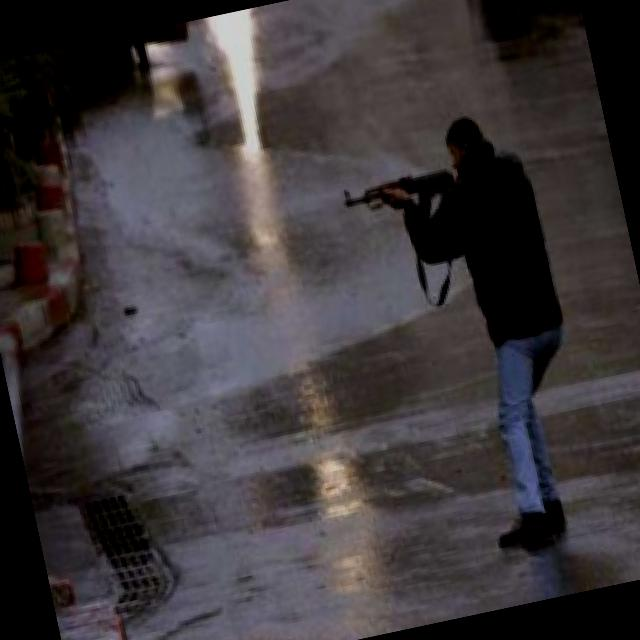long weapon: (344, 161, 452, 263)
